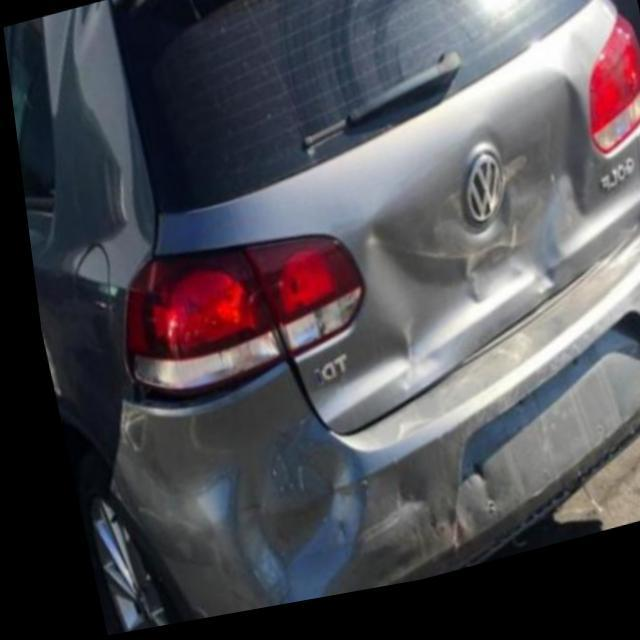crack: (457, 475, 469, 495)
dent: (218, 416, 352, 614), (353, 231, 472, 365), (516, 94, 586, 308), (449, 178, 526, 319), (380, 362, 432, 405)
scratch: (381, 482, 414, 518)
